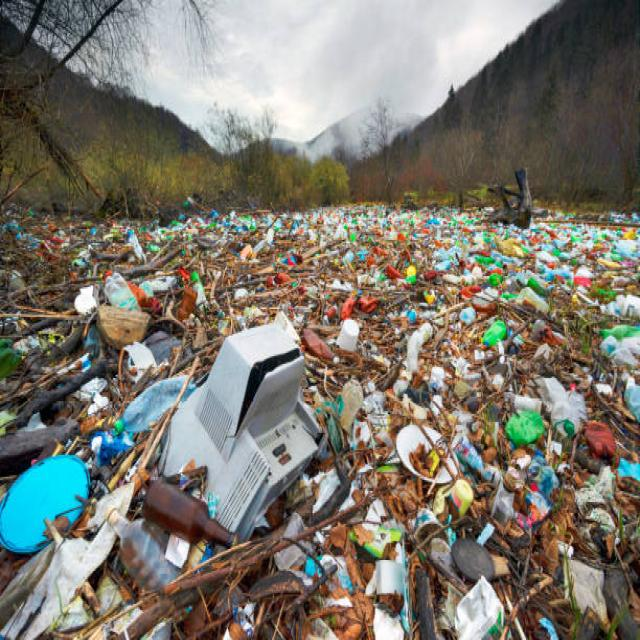plastic: (313, 204, 614, 381)
